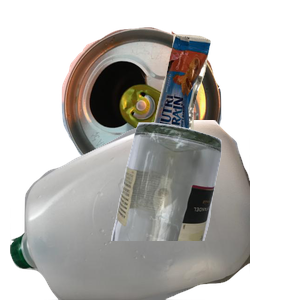glass: (109, 120, 300, 300)
metal: (59, 10, 273, 189)
plastic: (10, 120, 250, 300)
trash: (149, 31, 300, 179)
